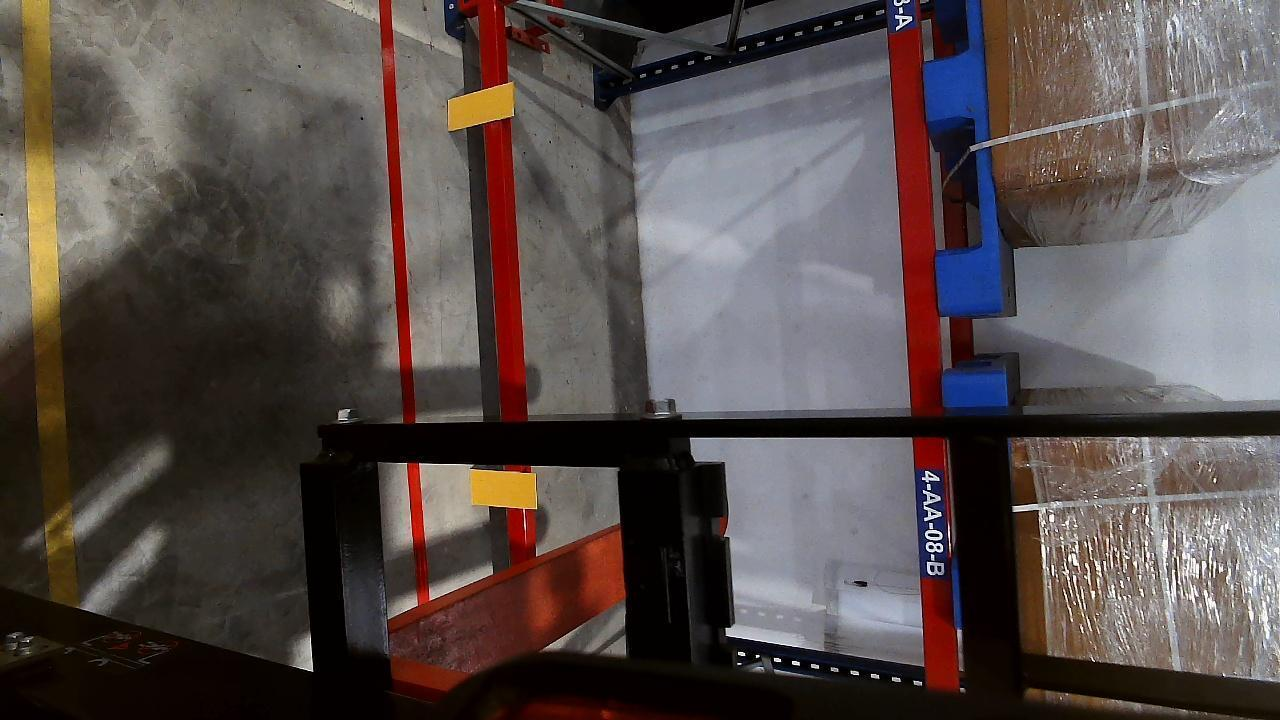red_line: (377, 0, 429, 597)
yellow_line: (17, 0, 75, 605)
